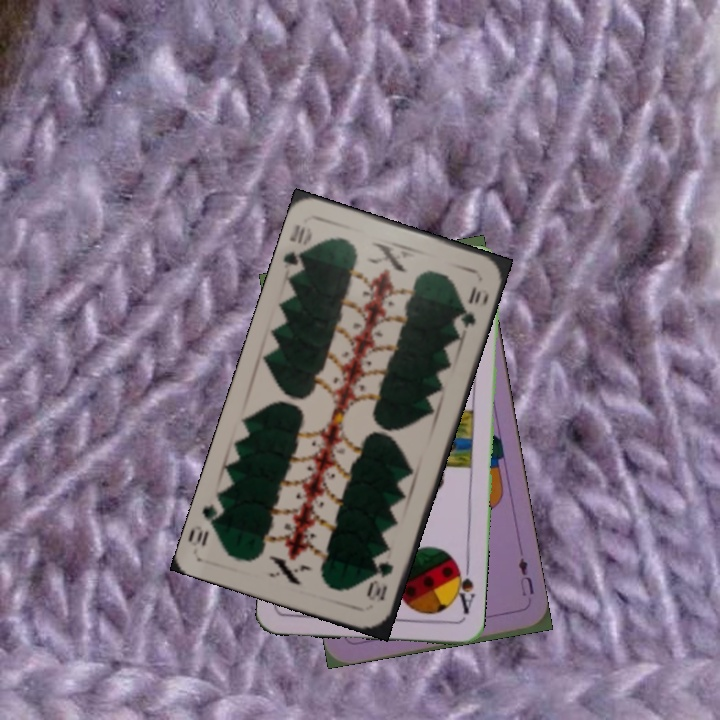EU: (514, 554, 537, 599)
G10: (279, 220, 315, 278), (364, 557, 396, 604)
SA: (450, 559, 478, 616)
